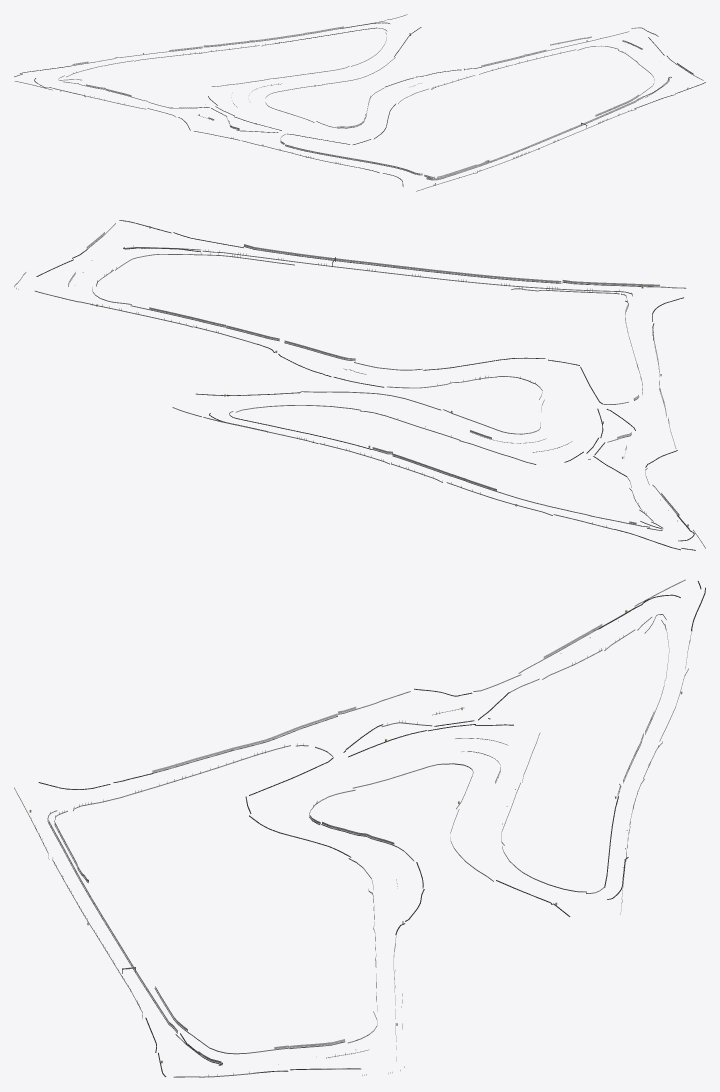
The model's file is trackside.glb.
The picture shows the model from 3 angles, top to bottom: view 1: azimuth 30°, elevation 25°; view 2: azimuth 150°, elevation 25°; view 3: azimuth 270°, elevation 25°; orthographic projection. The views are drawn at different scales.
Visible parts, largest first — view 1: t3_3_2, t3_4_2, t3_3_3, t3_2_3; view 2: t3_4_2, t3_3_2, t3_3_3, t3_2_3; view 3: t3_3_2, t3_4_2, t3_2_3, t3_3_3.
Boxes of the visible parts, x1,y1,x2,y2 form: t3_3_2: (247, 71, 542, 189); t3_4_2: (450, 27, 705, 147); t3_3_3: (169, 19, 409, 108); t3_2_3: (14, 51, 234, 126); t3_4_2: (14, 220, 428, 360); t3_3_2: (289, 269, 683, 428); t3_3_3: (198, 391, 572, 496); t3_2_3: (486, 437, 705, 550); t3_3_2: (16, 736, 428, 929); t3_4_2: (92, 914, 413, 1077); t3_2_3: (427, 579, 705, 731); t3_3_3: (429, 712, 672, 903).
Bounding box in the file's own units: 1364 × 69.45 × 861.
